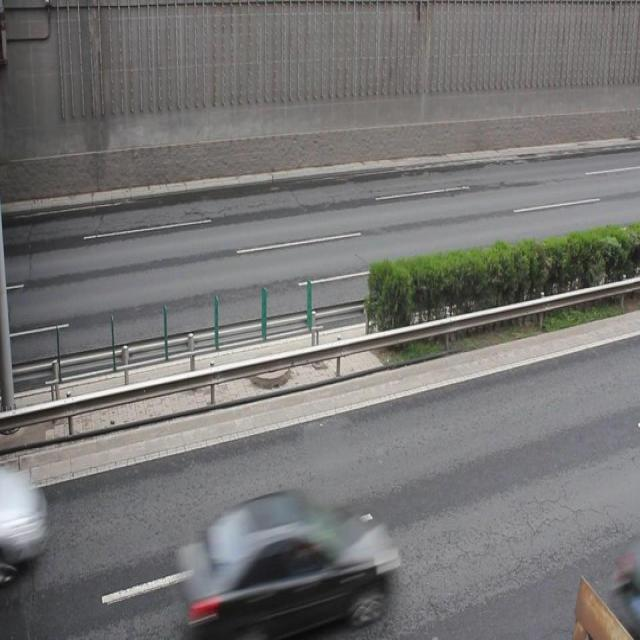car: (185, 489, 388, 640)
